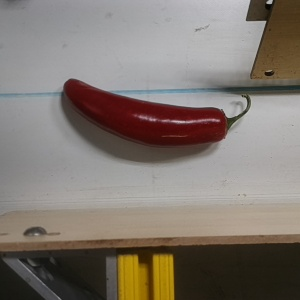Cut Point: (208, 106, 237, 142)
